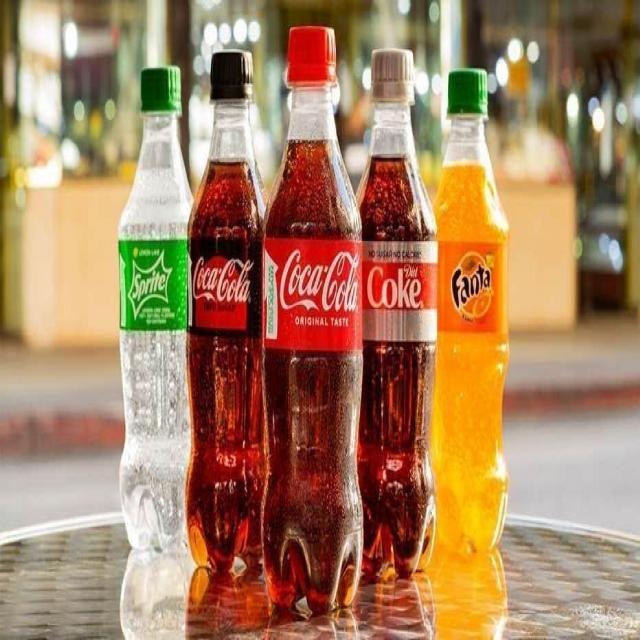bottle-plastic: (256, 20, 369, 625), (342, 38, 443, 597), (181, 41, 271, 577), (114, 60, 204, 546), (428, 57, 514, 565)
